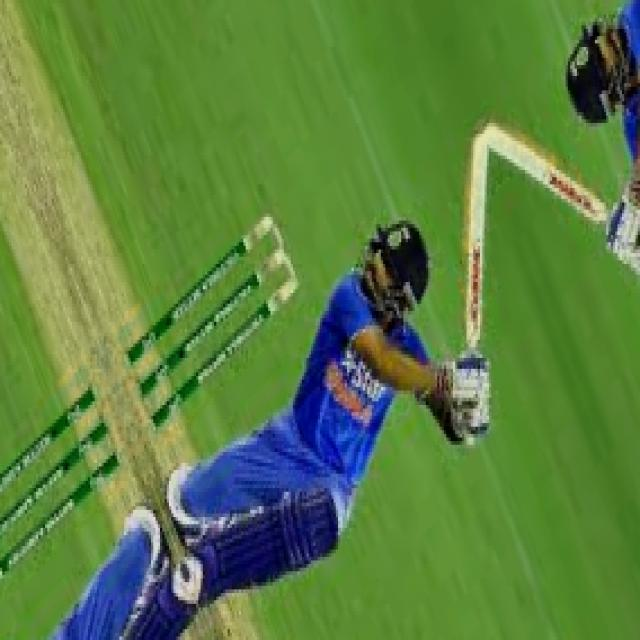toe: (461, 133, 494, 185)
